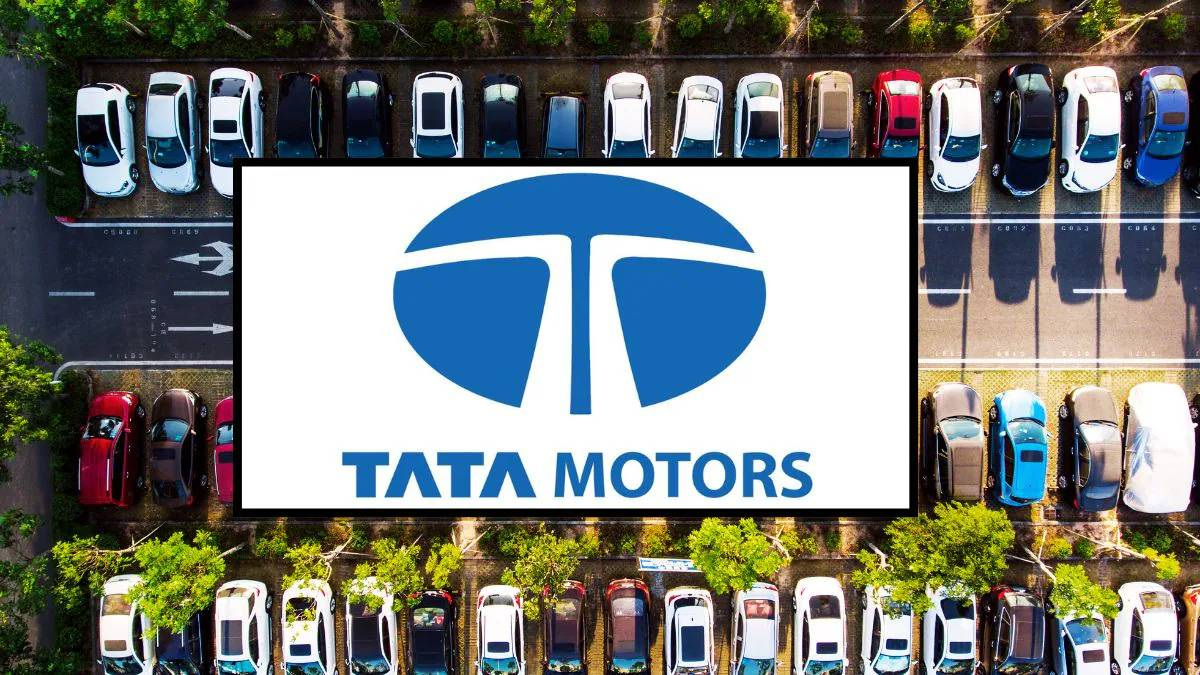Imprimante: (203, 112, 559, 318)
